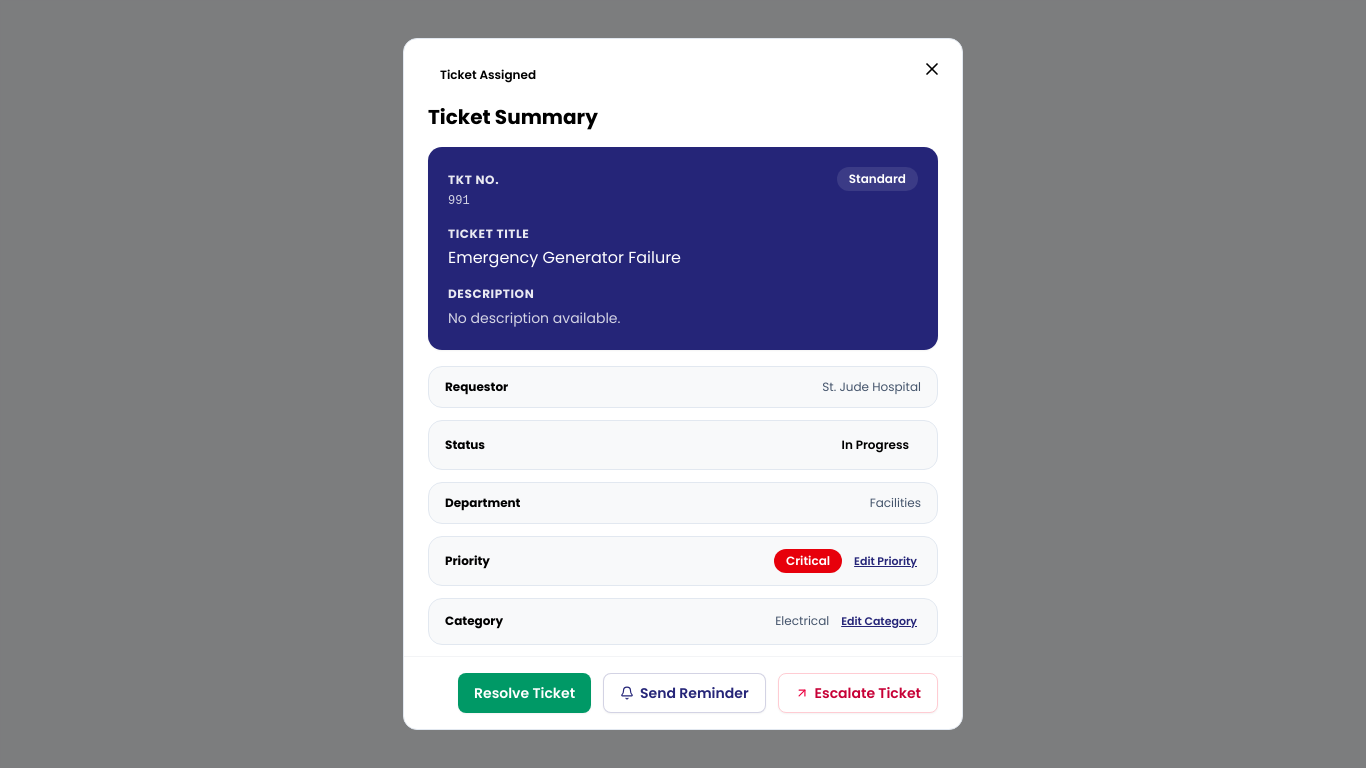
Test case: CS SLA Display and Employee Reminder Tests › covers AC-8 (error state): displays clear error alert in reminder modal when send fails without recording in timeline
Step 1. Click the button "Send Reminder" → (684, 693), box [603,673,766,713]
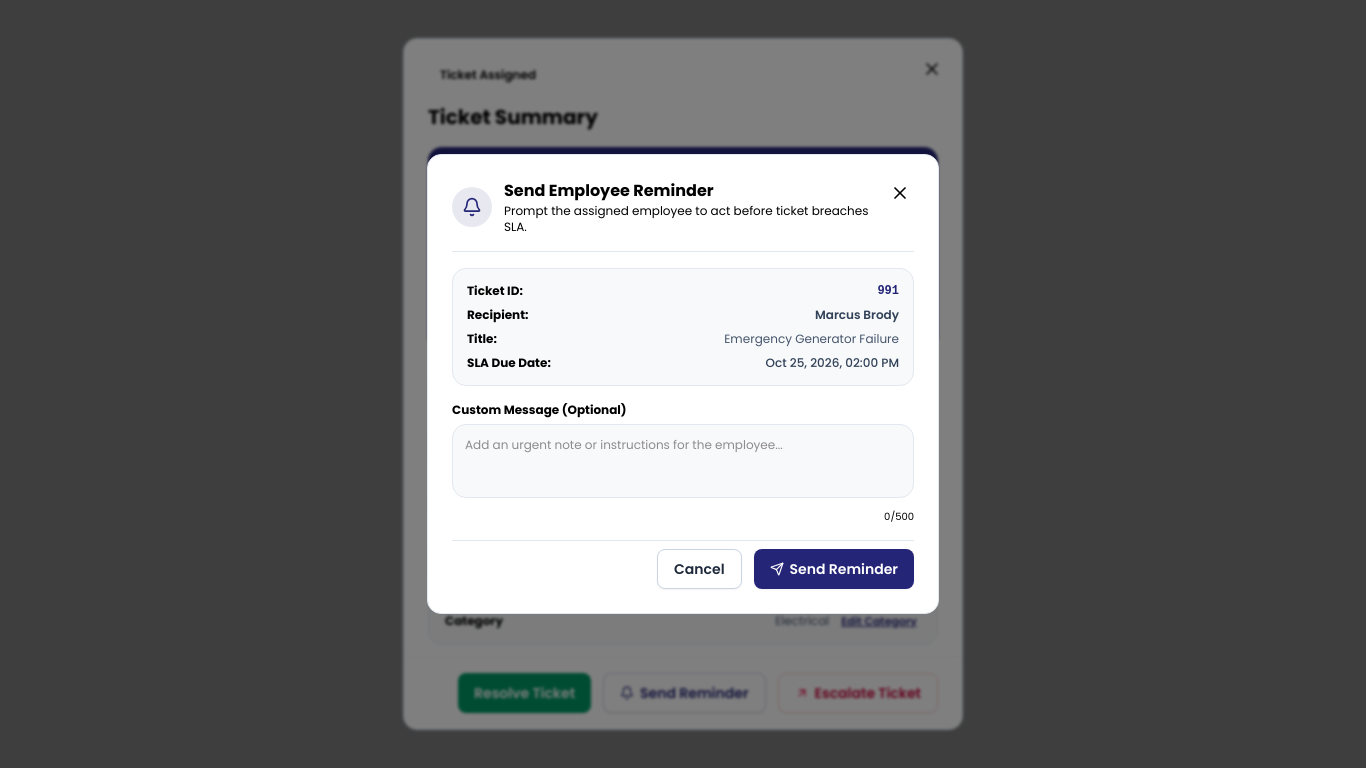
Expected: the heading "Send Employee Reminder" is shown, [504,179,714,202]
Step 2. Click the button "Send Reminder" → (834, 569), box [754,549,914,589]
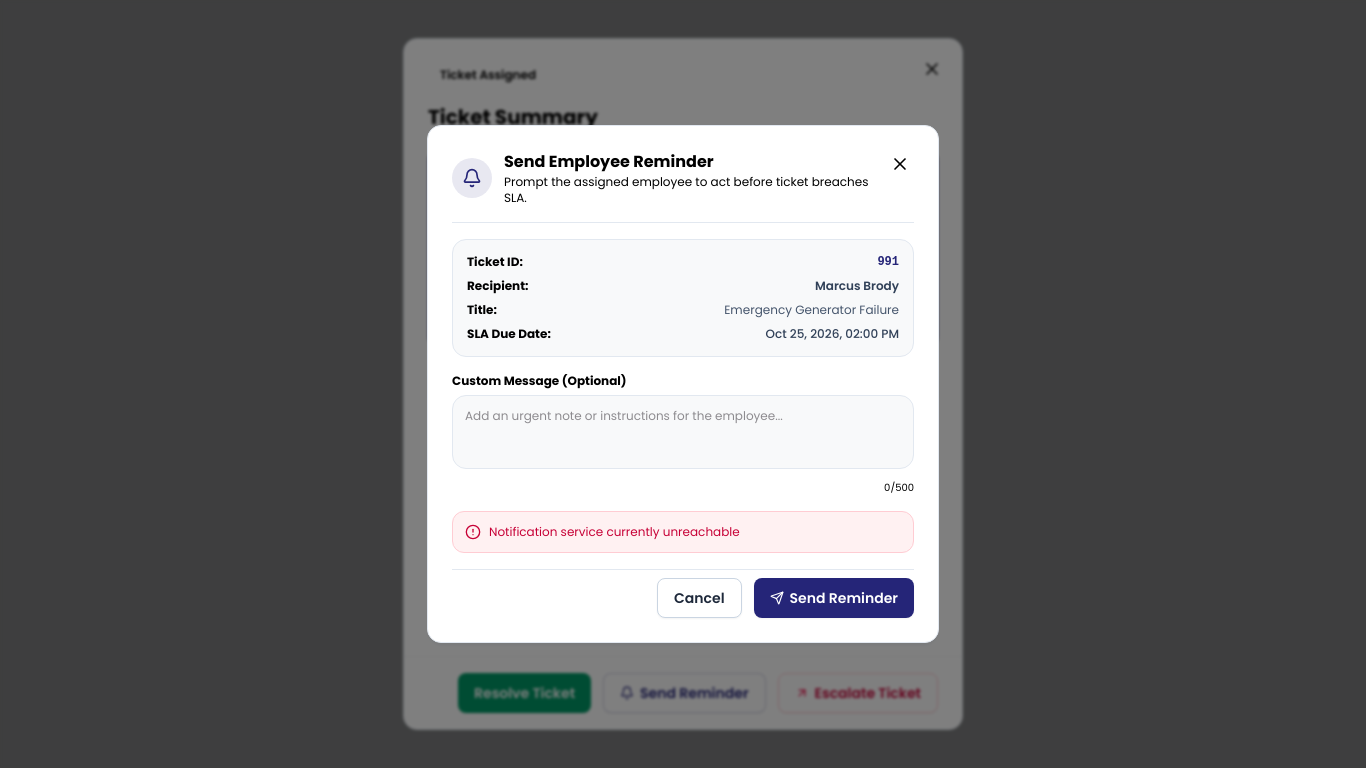
Expected: the text "Notification service currently unreachable" is shown, [489,524,740,540]
